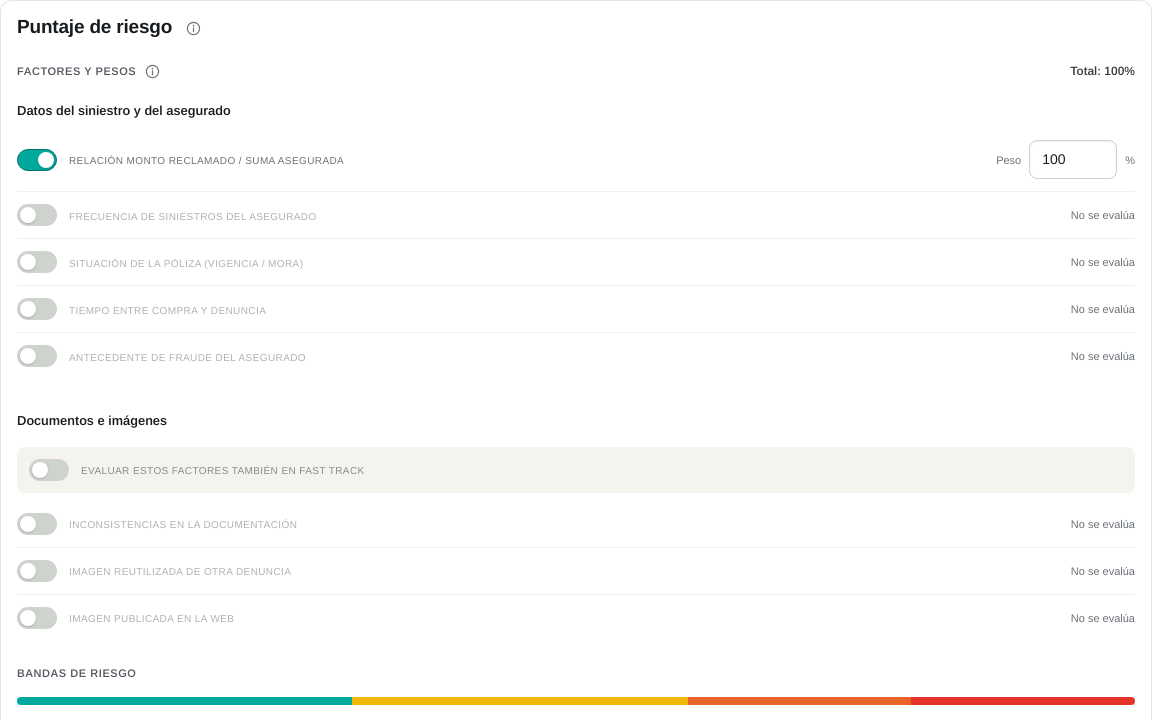
ScoringConfigComponent › lets the scoring be saved with every factor off
Step 1. Click the switch named "Relación monto reclamado / suma asegurada" → click(37, 160), box x1=17 y1=149 x2=57 y2=171
(page scrolled)
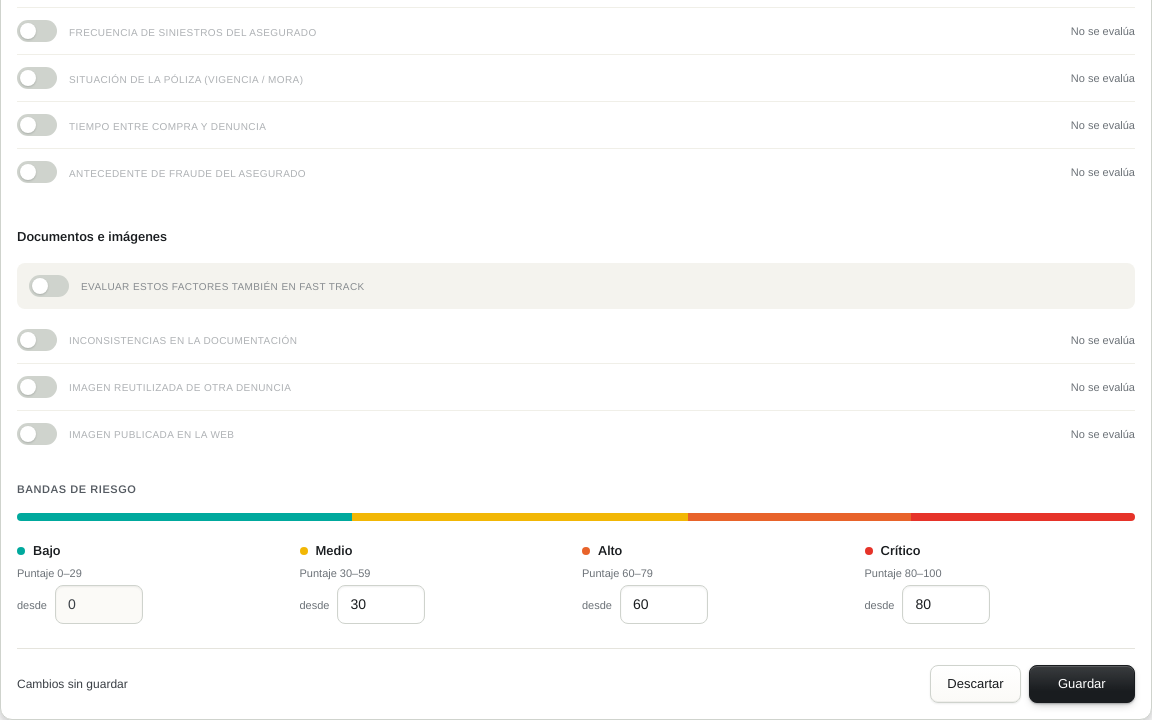
Expected: the button "Guardar" is enabled, x1=1029 y1=666 x2=1135 y2=703
